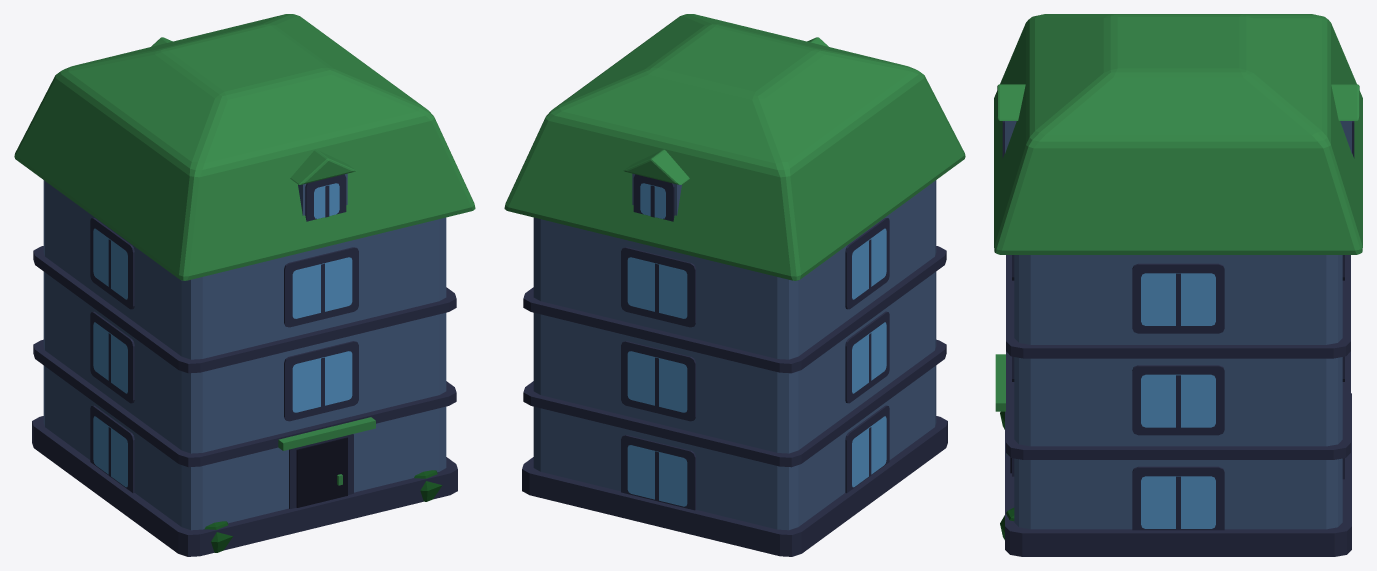
The model's file is house-1x1-3f-mansard-b.glb.
3 renders of one model, left to right at view 1: azimuth 30°, elevation 25°; view 2: azimuth 150°, elevation 25°; view 3: azimuth 270°, elevation 25°, orthographic. The views are drawn at different scales.
Visible parts, largest first — view 1: house-1x1-3f-mansard-b; view 2: house-1x1-3f-mansard-b; view 3: house-1x1-3f-mansard-b.
Part boxes in pixels (x1=…): house-1x1-3f-mansard-b: x1=14, y1=14, x2=475, y2=556; house-1x1-3f-mansard-b: x1=504, y1=14, x2=965, y2=556; house-1x1-3f-mansard-b: x1=994, y1=14, x2=1362, y2=556.
Size of the model in its own units: 0.9876 by 1.3 by 0.9876.
Materials: 1 (1 with a texture image).
